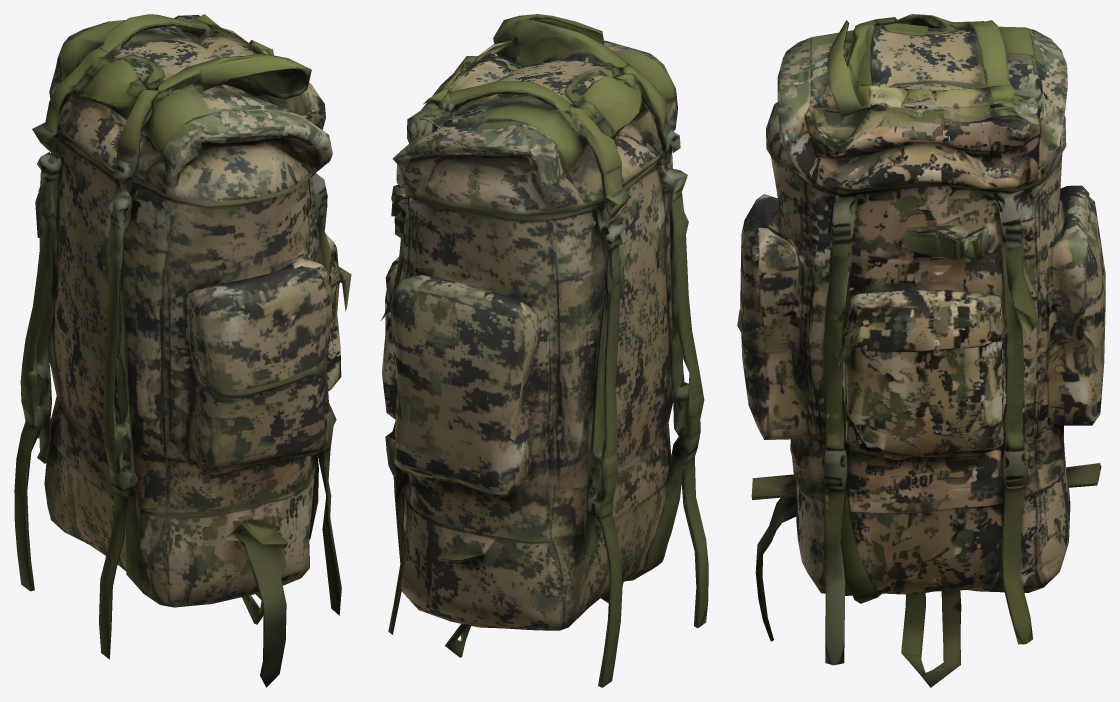
Rendered from mbackpack.fbx.
3 views of the same model, side by side, from view 1: azimuth 30°, elevation 25°; view 2: azimuth 150°, elevation 25°; view 3: azimuth 270°, elevation 25° (orthographic).
Visible parts, largest first — view 1: tripo_node_3637a8a9; view 2: tripo_node_3637a8a9; view 3: tripo_node_3637a8a9.
Boxes of the visible parts, x1,y1,x2,y2 form: tripo_node_3637a8a9: (14, 14, 351, 687); tripo_node_3637a8a9: (380, 14, 708, 687); tripo_node_3637a8a9: (737, 14, 1105, 687).
Bounding box in the file's own units: 0.4334 × 1 × 0.5387.
